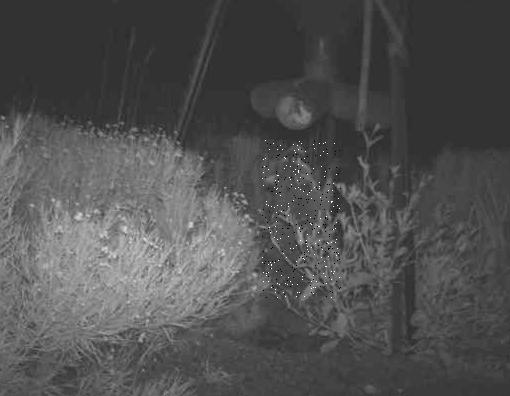Raccoon: (262, 141, 341, 299)
